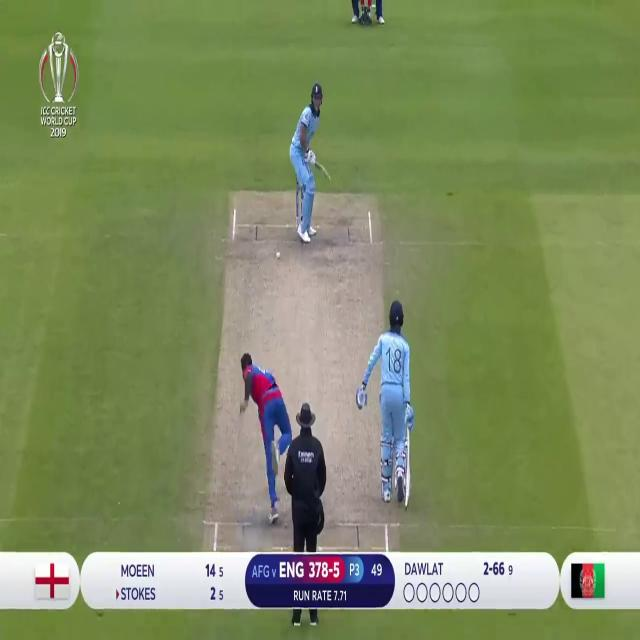ball: (276, 250, 282, 260)
